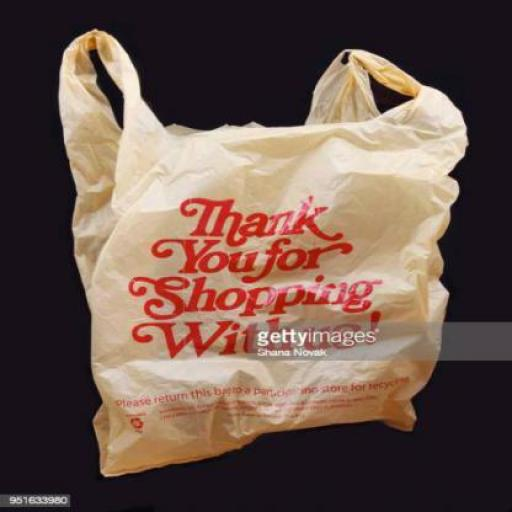plastic bag: (57, 28, 464, 482)
